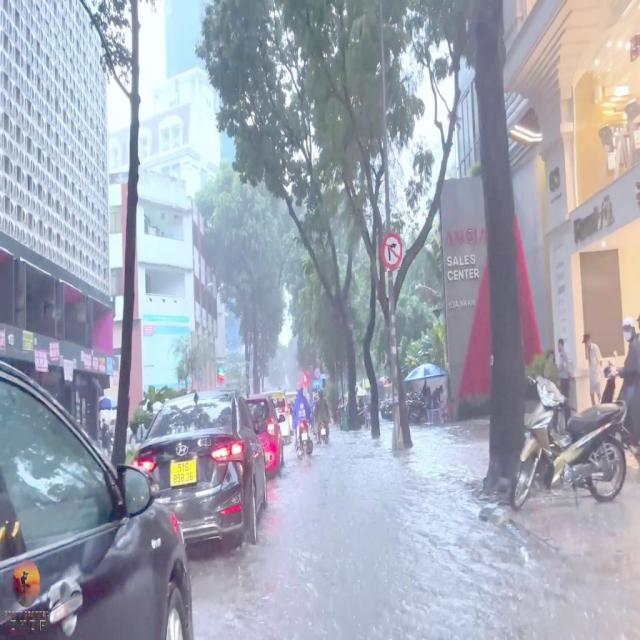cam_re_phai: (381, 234, 402, 272)
